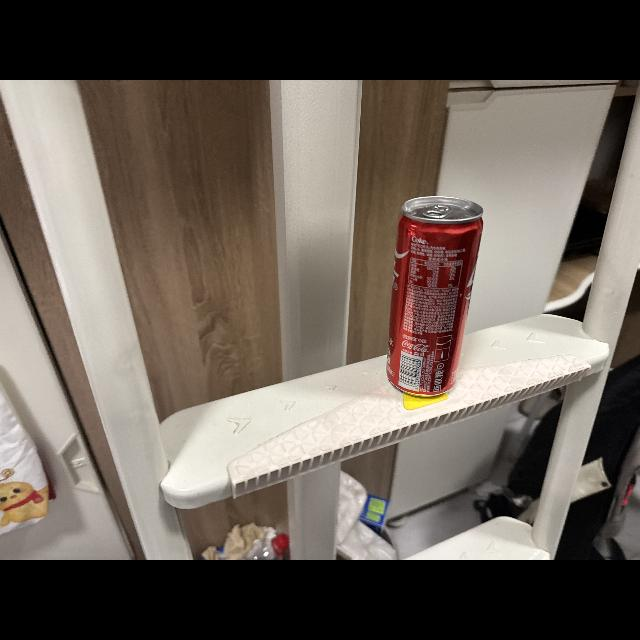Cola: (378, 192, 494, 402)
